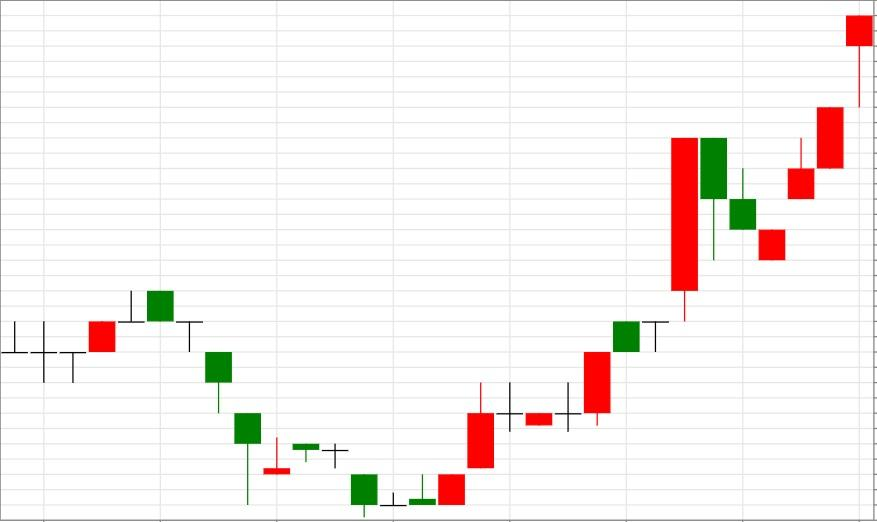bullish_engulfing_rise: (292, 443, 466, 517)
three_white_soldiers_rise: (671, 106, 844, 322)
